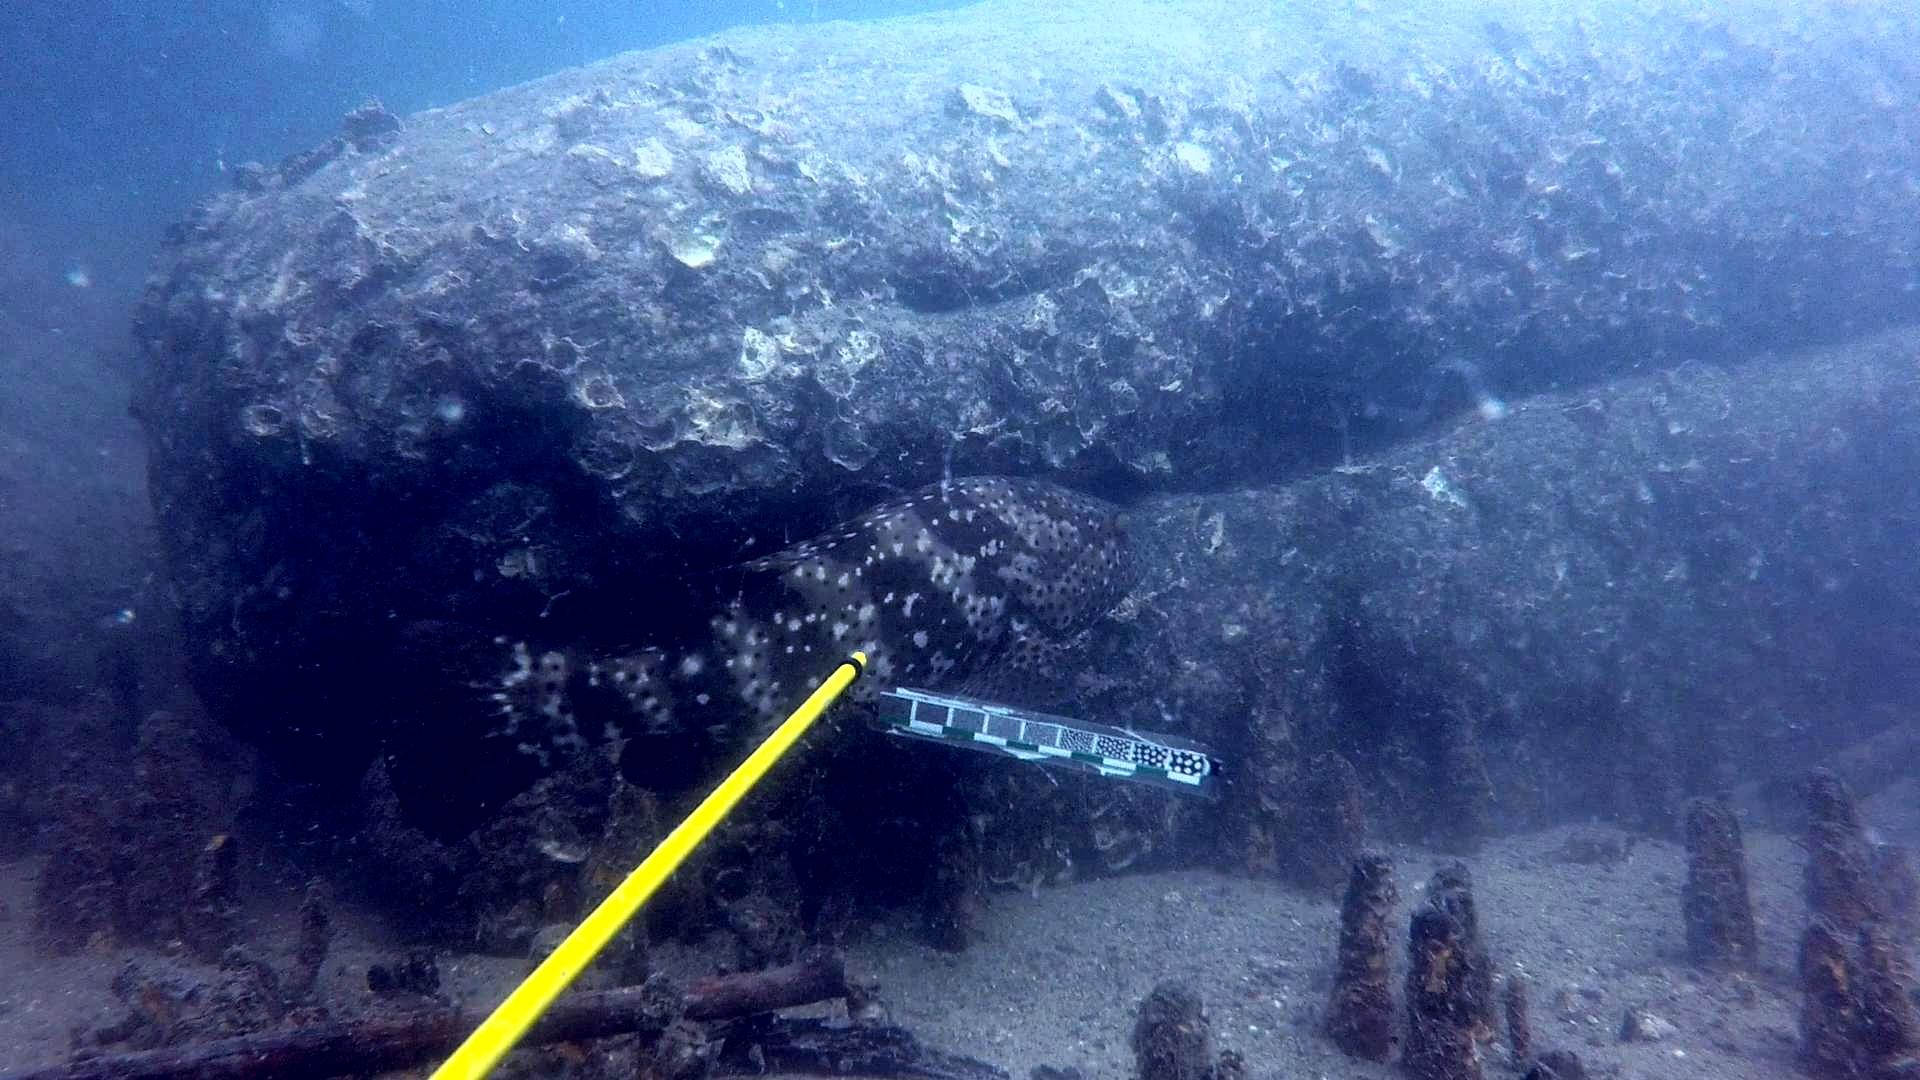epinephelus: (378, 467, 1159, 862)
